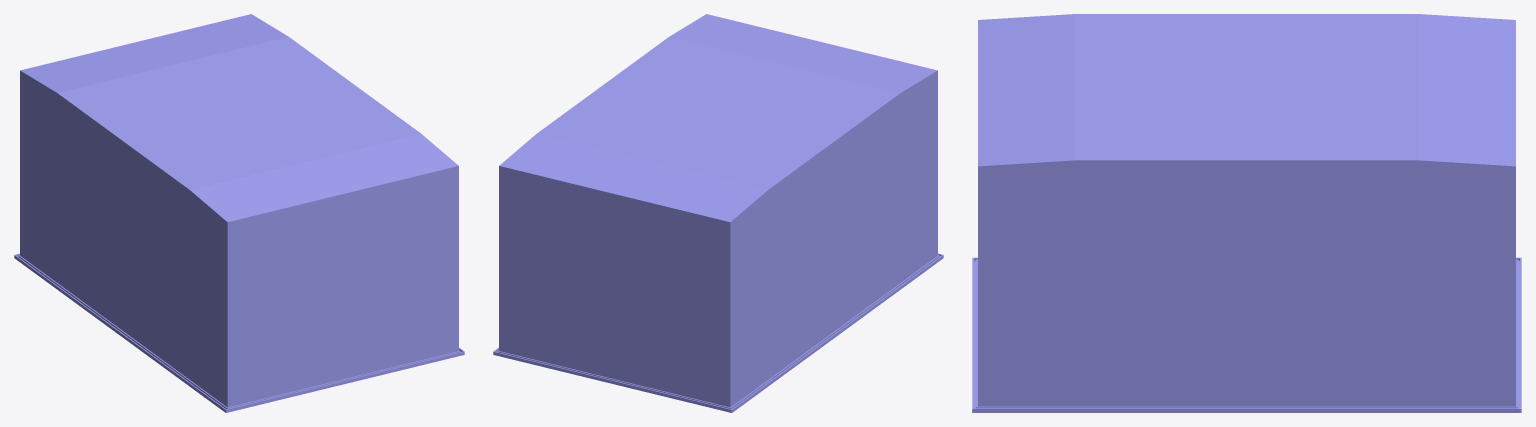
The model's file is PartBody 10.FBX.
3 views of the same model, side by side, from view 1: azimuth 30°, elevation 25°; view 2: azimuth 150°, elevation 25°; view 3: azimuth 270°, elevation 25° (orthographic). The views are drawn at different scales.
Visible parts, largest first — view 1: PartBody; view 2: PartBody; view 3: PartBody.
Boxes of the visible parts, x1=… form: PartBody: x1=14, y1=14, x2=464, y2=412; PartBody: x1=493, y1=14, x2=943, y2=412; PartBody: x1=972, y1=14, x2=1521, y2=412.
Size of the model in its own units: 318 by 488 by 245.
